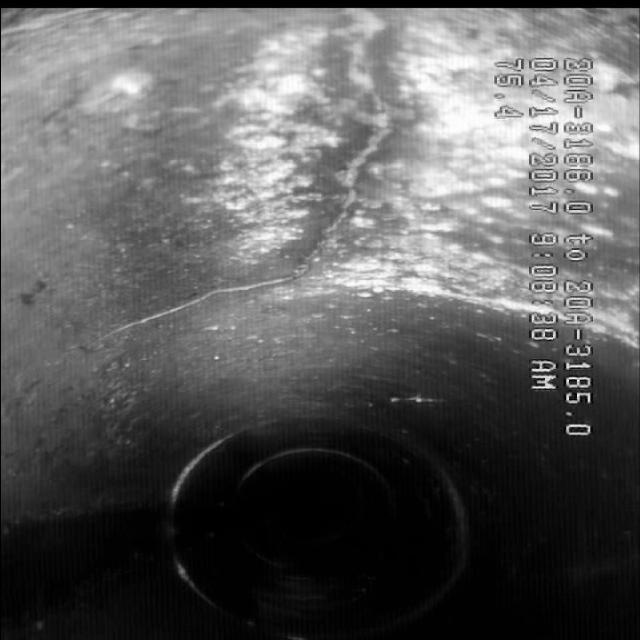Crack: (242, 38, 468, 288)
